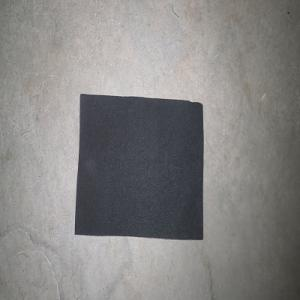PaintChip: (74, 93, 203, 240)
